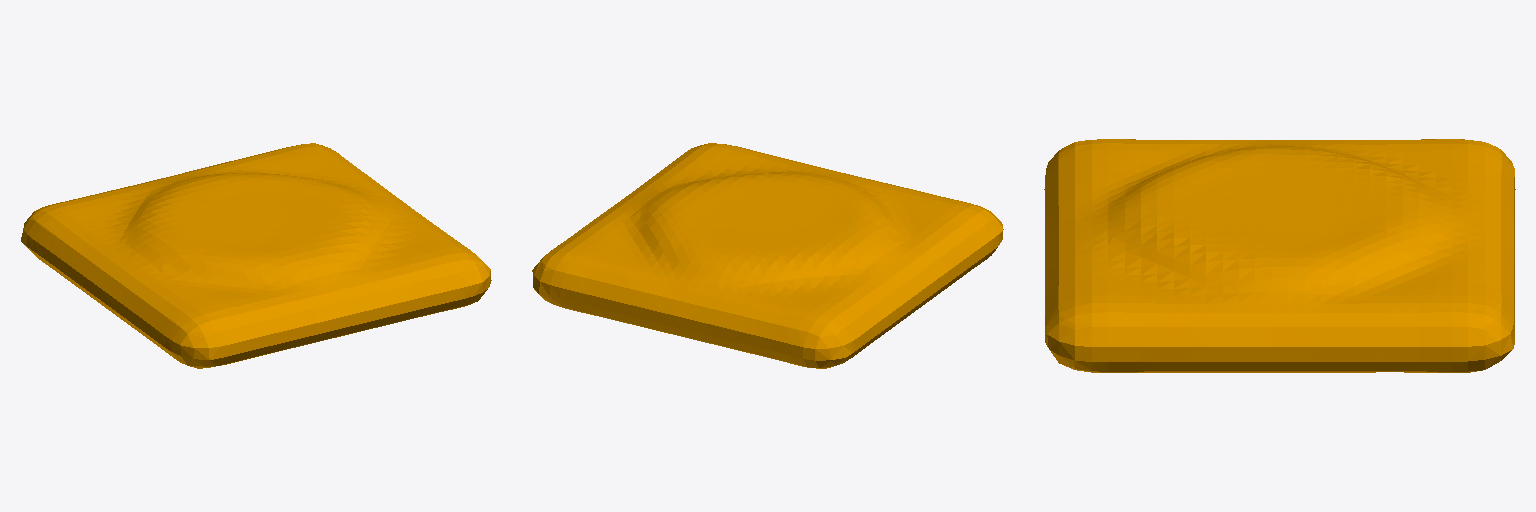
robot.urdf — object:
<?xml version="1.0"?>
        <robot name="object">
          <link name="object">
            <visual>
              <origin xyz="0.0 0.0 0.0"/>
              <geometry>
                <mesh filename="F0.stl" scale="1.00 1.00 1.00"/>
              </geometry>
            </visual>
            <collision>
              <origin xyz="0.0 0.0 0.0"/>
              <geometry>
                <mesh filename="F0.stl" scale="1.00 1.00 1.00"/>
              </geometry>
            </collision>
          </link>
        </robot>

--- What the picture shows (computed from the rendered views, not written in the file) ---
3 views of the same robot in one strip: view 1: azimuth 30°, elevation 25°; view 2: azimuth 150°, elevation 25°; view 3: azimuth 270°, elevation 25° (orthographic).
Robot: object — 1 links, 0 joints (none); root link object; default pose: every joint at zero.
Visible links, largest first — view 1: object; view 2: object; view 3: object.
Boxes of the visible links, bbox=[...] form: object: bbox=[21, 143, 491, 368]; object: bbox=[532, 143, 1003, 368]; object: bbox=[1044, 139, 1515, 372].
Size in the robot's own frame: 0.1 by 0.1 by 0.0197 metres.
1 mesh visuals loaded from 1 distinct referenced files (1 binary STL).